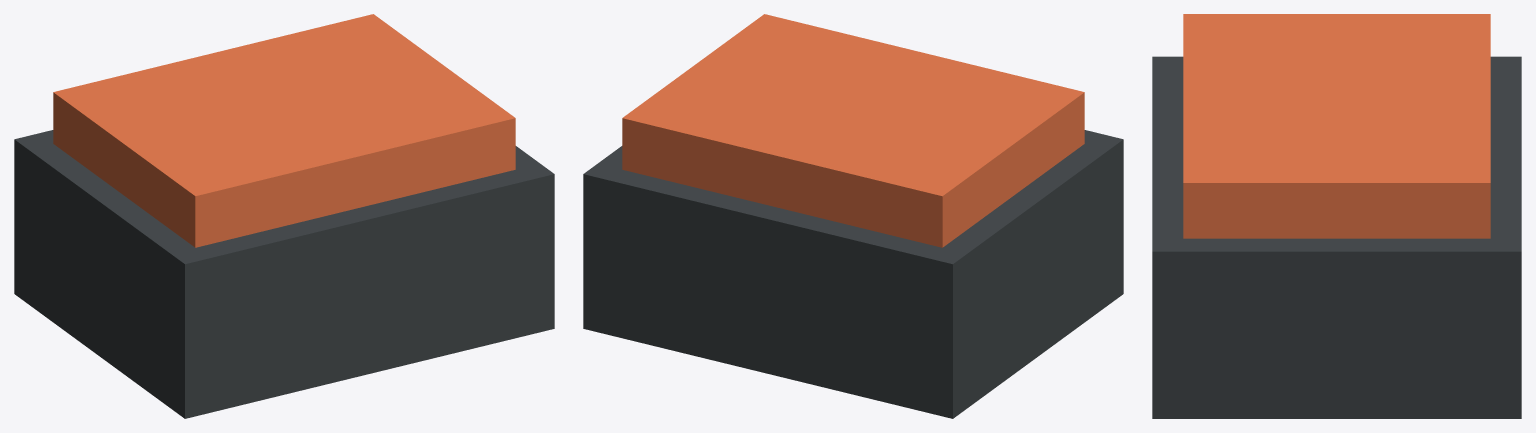
Rendered from endurance-and-gt-paddock-rain-light-19aa288c__14949.glb.
3 views of the same model, side by side, from view 1: azimuth 30°, elevation 25°; view 2: azimuth 150°, elevation 25°; view 3: azimuth 270°, elevation 25° (orthographic). The views are drawn at different scales.
Visible parts, largest first — view 1: rain-light; view 2: rain-light; view 3: rain-light.
Part boxes in pixels (x1,y1,x2,y2): rain-light: (14, 14, 554, 418); rain-light: (583, 14, 1123, 418); rain-light: (1152, 14, 1521, 418).
Size of the model in its own units: 0.15 by 0.08 by 0.12.
